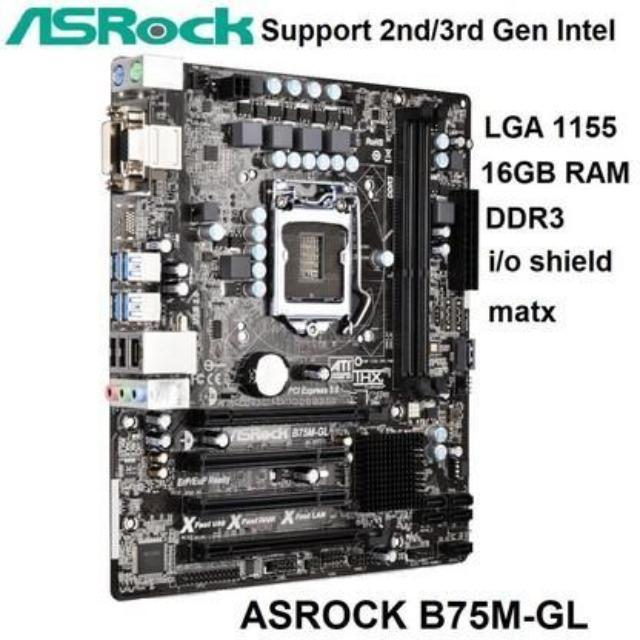Mainboard: (113, 54, 473, 591)
